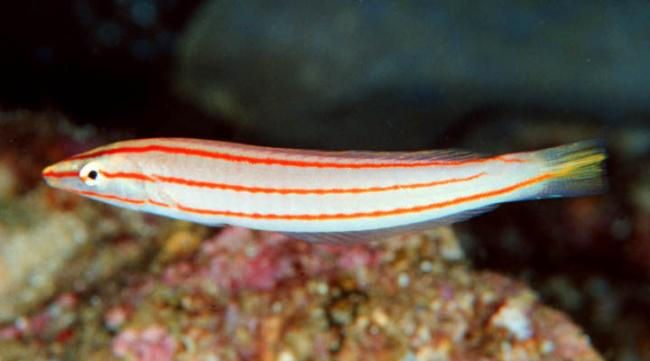fish: (41, 136, 606, 243)
